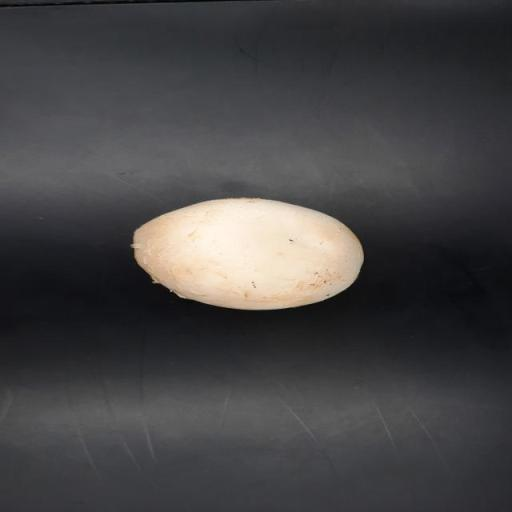mushroom: (131, 197, 367, 314)
